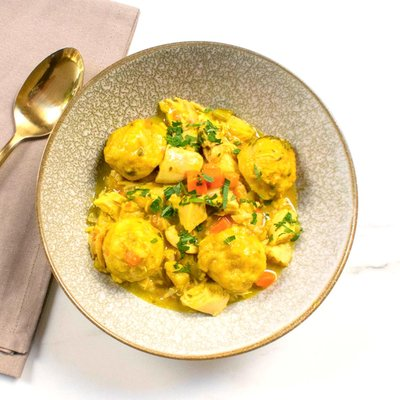salad: (0, 47, 85, 178)
sushi: (18, 35, 359, 387)
